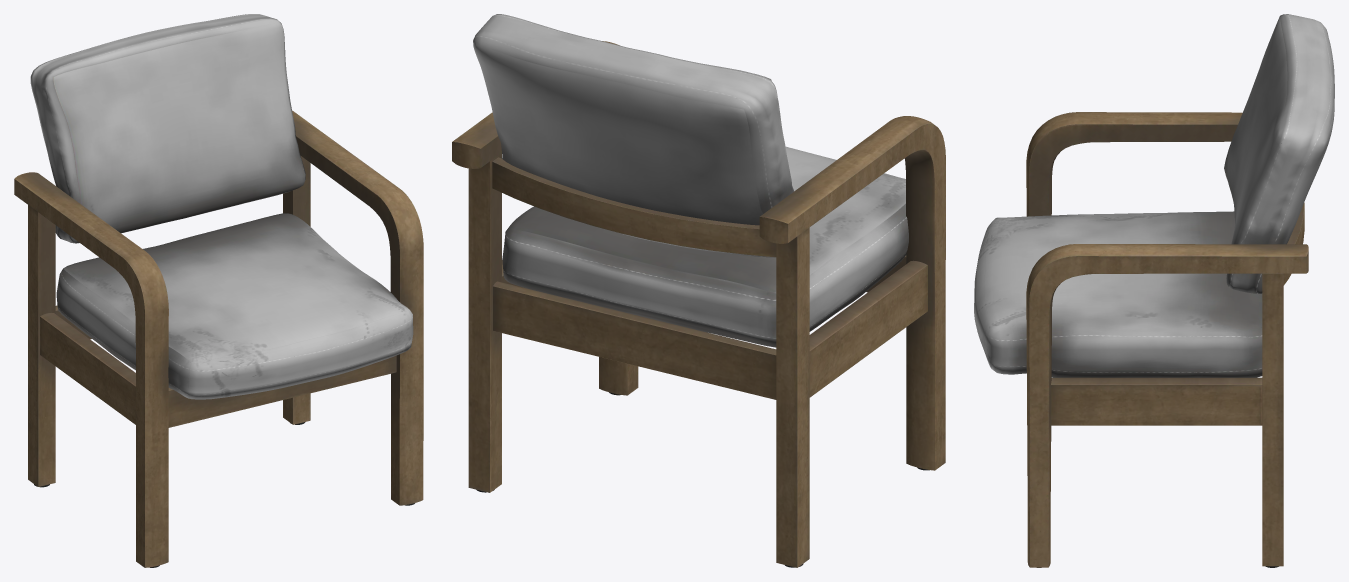
Rendered from chair.glb.
The picture shows the model from 3 angles, left to right: view 1: azimuth 30°, elevation 25°; view 2: azimuth 150°, elevation 25°; view 3: azimuth 270°, elevation 25°; orthographic projection. The views are drawn at different scales.
Visible parts, largest first — view 1: Asylum_WaitingRoom_Chair; view 2: Asylum_WaitingRoom_Chair; view 3: Asylum_WaitingRoom_Chair.
Part boxes in pixels (x1,y1,x2,y2): Asylum_WaitingRoom_Chair: (14,14,423,567); Asylum_WaitingRoom_Chair: (452,14,945,567); Asylum_WaitingRoom_Chair: (974,14,1334,567).
Bounding box in the file's own units: 1.05 × 1.46 × 1.11.
1 material, 1 textured.
